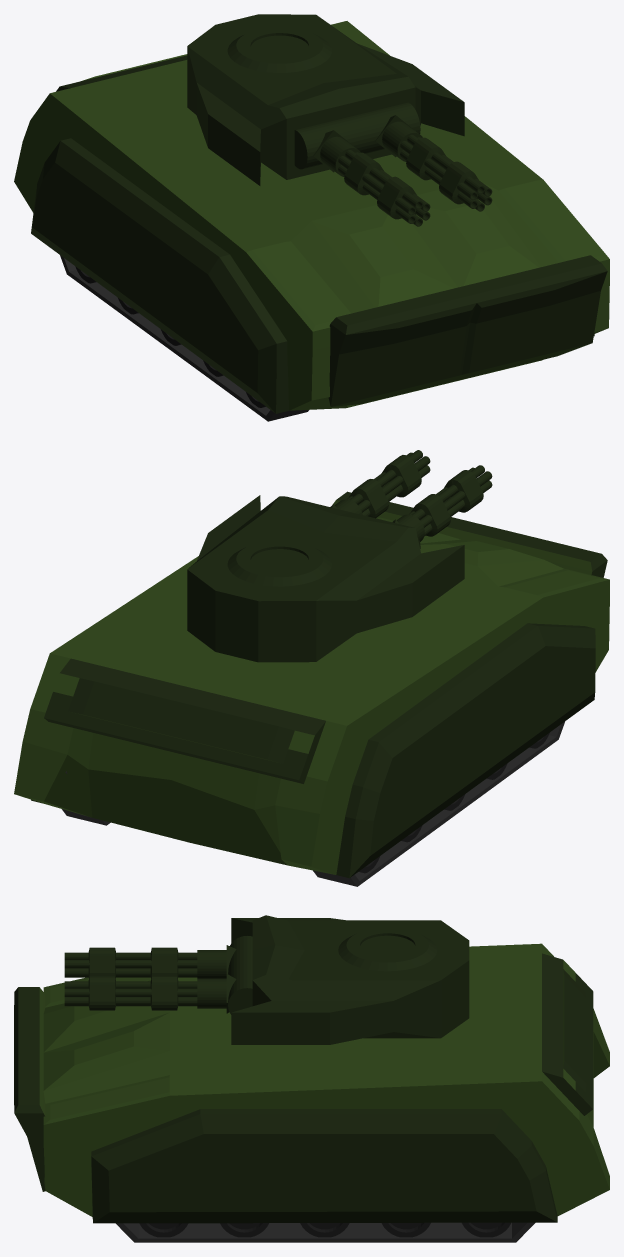
Rendered from tier3.obj.
3 views of the same model, one above another, from view 1: azimuth 30°, elevation 25°; view 2: azimuth 150°, elevation 25°; view 3: azimuth 270°, elevation 25° (orthographic). The views are drawn at different scales.
Visible parts, largest first — view 1: Body15_Cube.009, Turret15_Cube.014, Main_Gun_L15_Cylinder.010, Main_Gun_R15_Cylinder.009, ST15_Cube.016, Tracks15_Cube.007, Road_Wheels15_Cube.008; view 2: Body15_Cube.009, Turret15_Cube.014, Main_Gun_R15_Cylinder.009, Tracks15_Cube.007, Main_Gun_L15_Cylinder.010, Road_Wheels15_Cube.008; view 3: Body15_Cube.009, Turret15_Cube.014, Tracks15_Cube.007, Main_Gun_L15_Cylinder.010, Main_Gun_R15_Cylinder.009, Road_Wheels15_Cube.008, ST15_Cube.016.
Boxes of the visible parts, left/top/right/bottom form: Body15_Cube.009: left=14, top=21, right=609, bottom=413; Turret15_Cube.014: left=187, top=14, right=464, bottom=185; Main_Gun_L15_Cylinder.010: left=382, top=121, right=492, bottom=211; Main_Gun_R15_Cylinder.009: left=320, top=136, right=430, bottom=226; ST15_Cube.016: left=294, top=102, right=420, bottom=172; Tracks15_Cube.007: left=60, top=255, right=308, bottom=421; Road_Wheels15_Cube.008: left=75, top=266, right=265, bottom=407; Body15_Cube.009: left=14, top=491, right=609, bottom=878; Turret15_Cube.014: left=187, top=495, right=464, bottom=662; Main_Gun_R15_Cylinder.009: left=397, top=465, right=492, bottom=541; Tracks15_Cube.007: left=62, top=721, right=564, bottom=886; Main_Gun_L15_Cylinder.010: left=335, top=450, right=430, bottom=518; Road_Wheels15_Cube.008: left=359, top=732, right=549, bottom=873; Body15_Cube.009: left=14, top=943, right=609, bottom=1223; Turret15_Cube.014: left=231, top=915, right=469, bottom=1044; Tracks15_Cube.007: left=116, top=1222, right=535, bottom=1242; Main_Gun_L15_Cylinder.010: left=64, top=976, right=226, bottom=1010; Main_Gun_R15_Cylinder.009: left=64, top=947, right=226, bottom=978; Road_Wheels15_Cube.008: left=139, top=1222, right=510, bottom=1237; ST15_Cube.016: left=226, top=936, right=252, bottom=1014.
Size of the model in its own units: 4.09 by 2.81 by 6.59.
